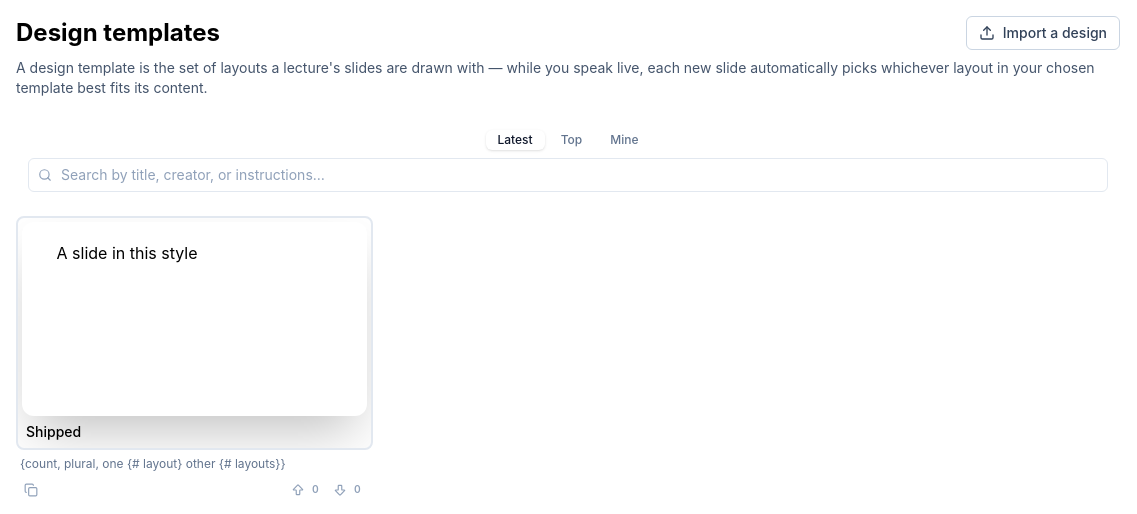
DesignTemplatesPage sorting and search (TMPL-28) › reports when a search matches nothing
This screenshot has width=1137, height=514.
Expected: the text "Shipped" is shown, [26, 422, 81, 442]
Type "zzz" into the search field at (568, 175), box [28, 158, 1108, 192]
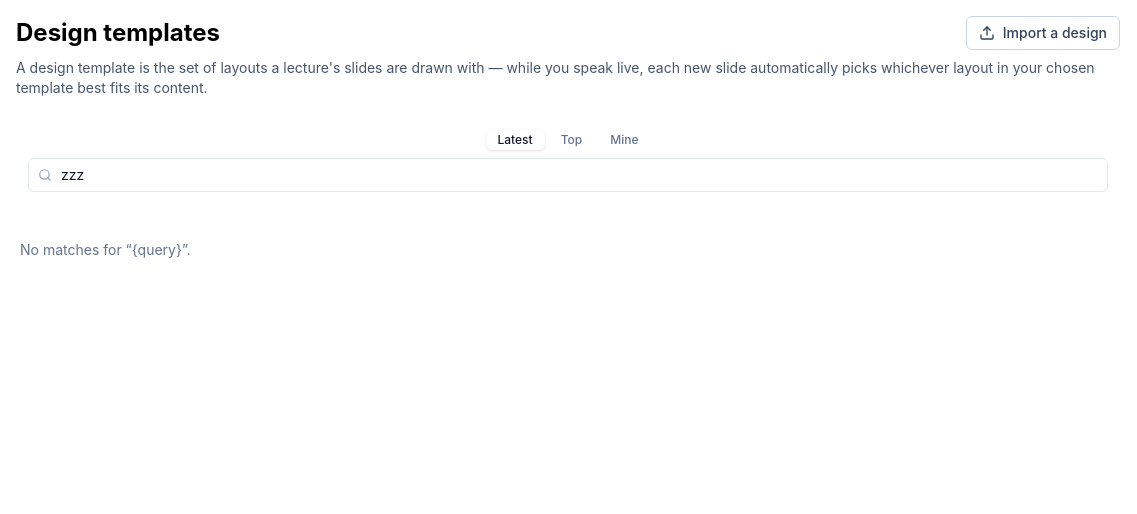
Now the text "No matches for “{query}”." is shown, box [20, 241, 191, 258]
